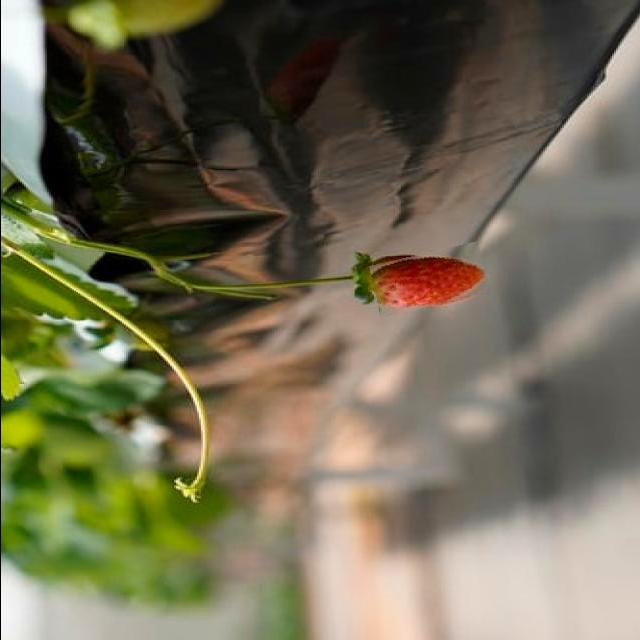strawberry: (370, 248, 486, 312)
